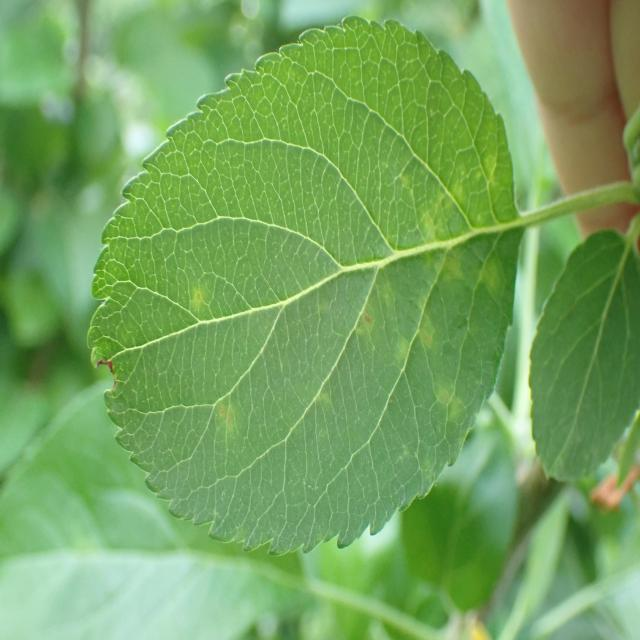scab: (122, 172, 518, 526)
